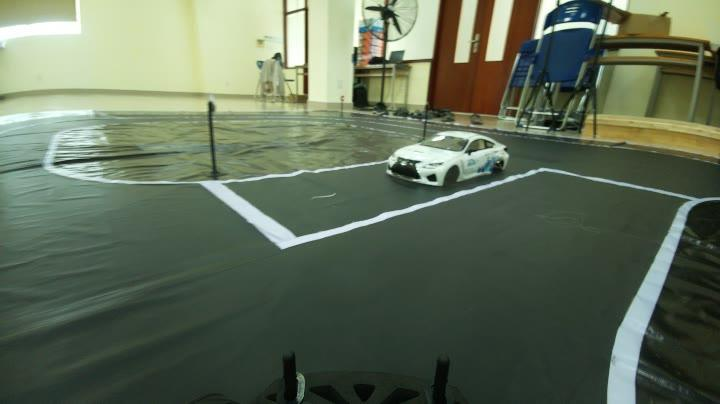car: (388, 125, 510, 185)
